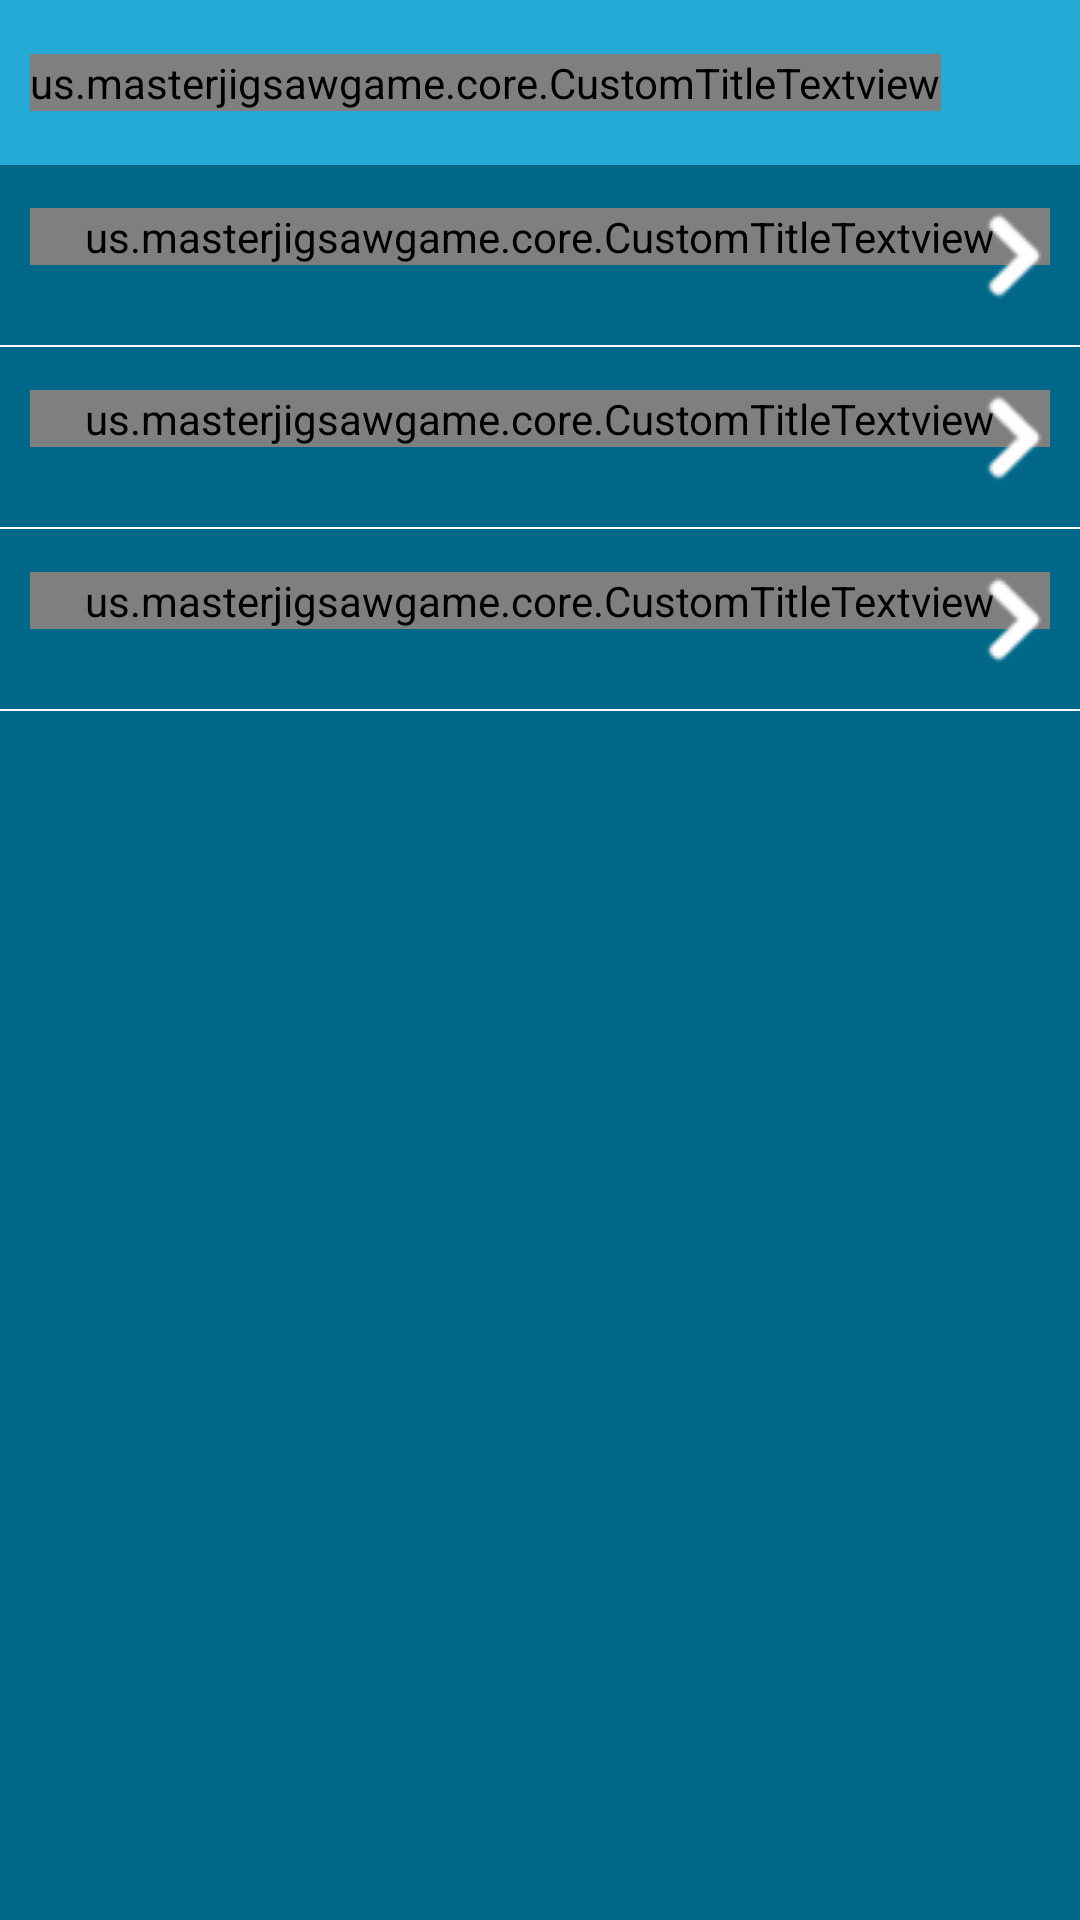

Icons on this 1080*1920 Android screen, each with its box as (x1, y1, x2, y2):
right arrow: (972, 208, 1050, 298), (972, 390, 1050, 480), (972, 572, 1050, 662)
